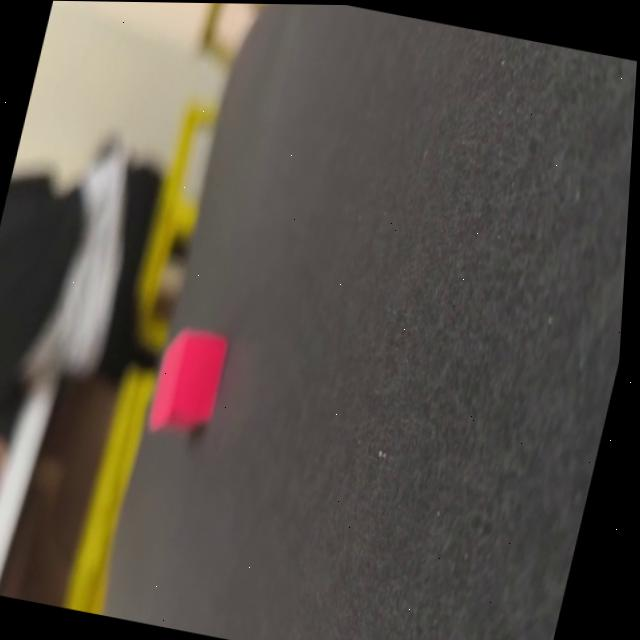red block: (140, 321, 231, 443)
